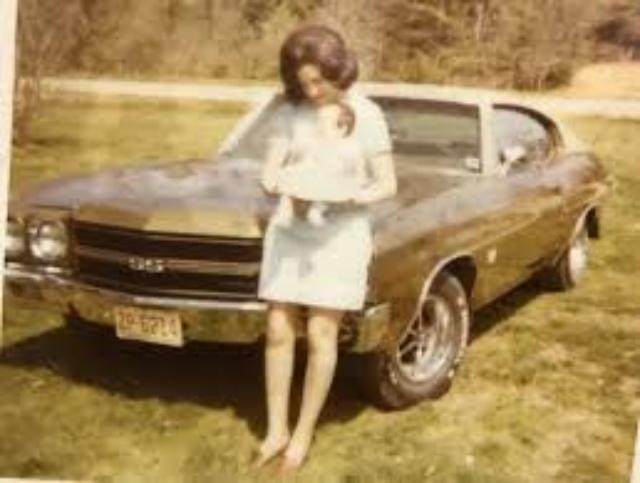chevelle-1972: (340, 84, 613, 407), (5, 92, 278, 342)
